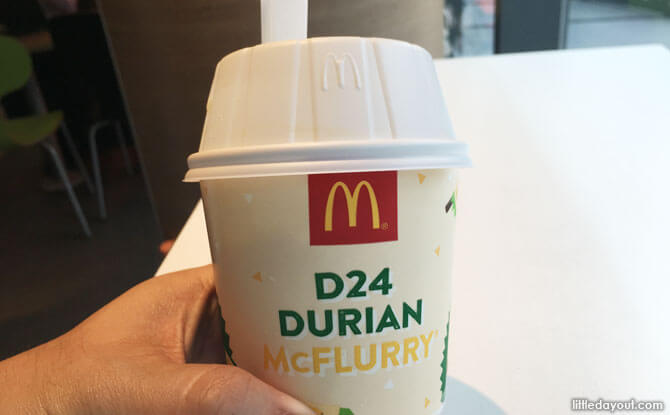mcdonalds: (321, 178, 381, 235)
